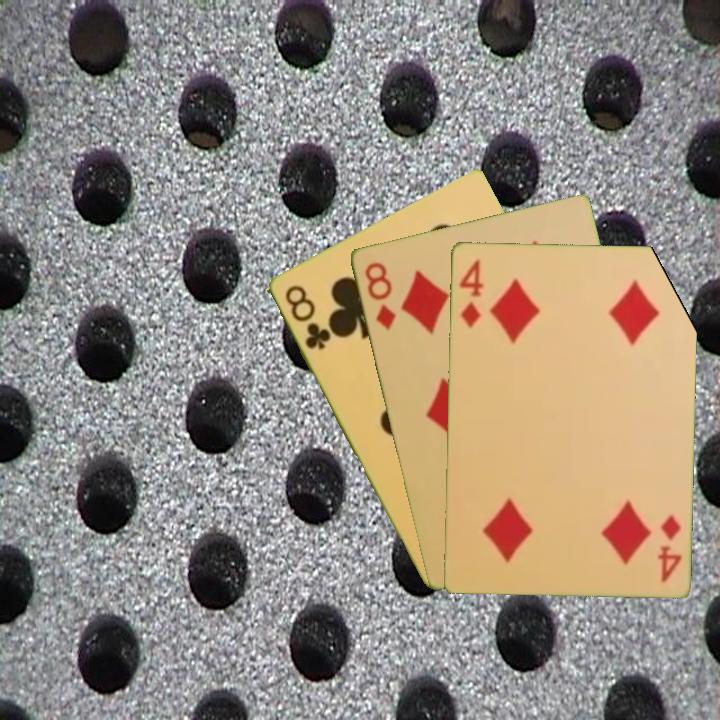4d: (455, 256, 486, 331), (653, 510, 684, 585)
8c: (280, 281, 333, 352)
8d: (360, 258, 399, 333)
